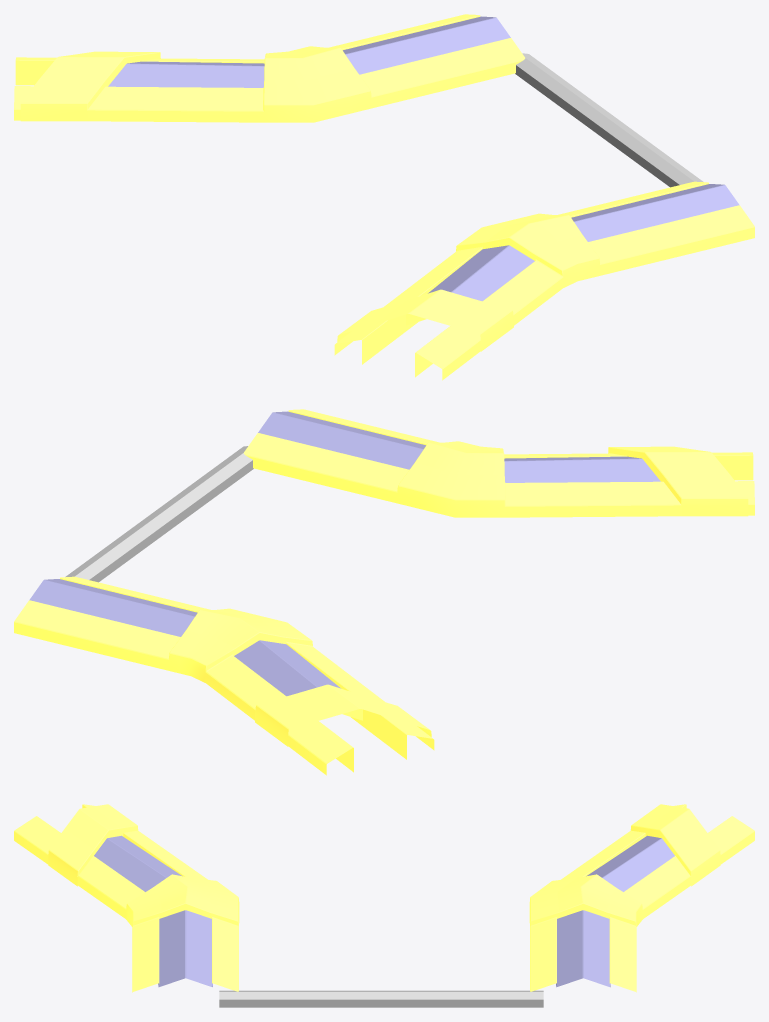
The model's file is SF_PathEntrance_Mesh.fbx.
3 renders of one model, top to bottom at view 1: azimuth 30°, elevation 25°; view 2: azimuth 150°, elevation 25°; view 3: azimuth 270°, elevation 25°, orthographic. The views are drawn at different scales.
Parts seen in each view (by area): view 1: sideguard.002, sideguard.004, sideguard.003, Cube; view 2: sideguard.002, sideguard.004, sideguard.003, Cube; view 3: sideguard.002, sideguard.004, sideguard.003, Cube.
Boxes of the visible parts, <box> form: sideguard.002: <box>14,14,754,380</box>; sideguard.004: <box>108,16,739,301</box>; sideguard.003: <box>20,51,513,351</box>; Cube: <box>515,53,703,187</box>; sideguard.002: <box>14,409,754,775</box>; sideguard.004: <box>29,411,660,696</box>; sideguard.003: <box>255,446,748,746</box>; Cube: <box>65,446,253,582</box>; sideguard.002: <box>14,804,754,992</box>; sideguard.004: <box>94,835,674,987</box>; sideguard.003: <box>48,804,720,886</box>; Cube: <box>219,990,543,1007</box>.
Bounding box in the file's own units: 396 × 35.66 × 656.
